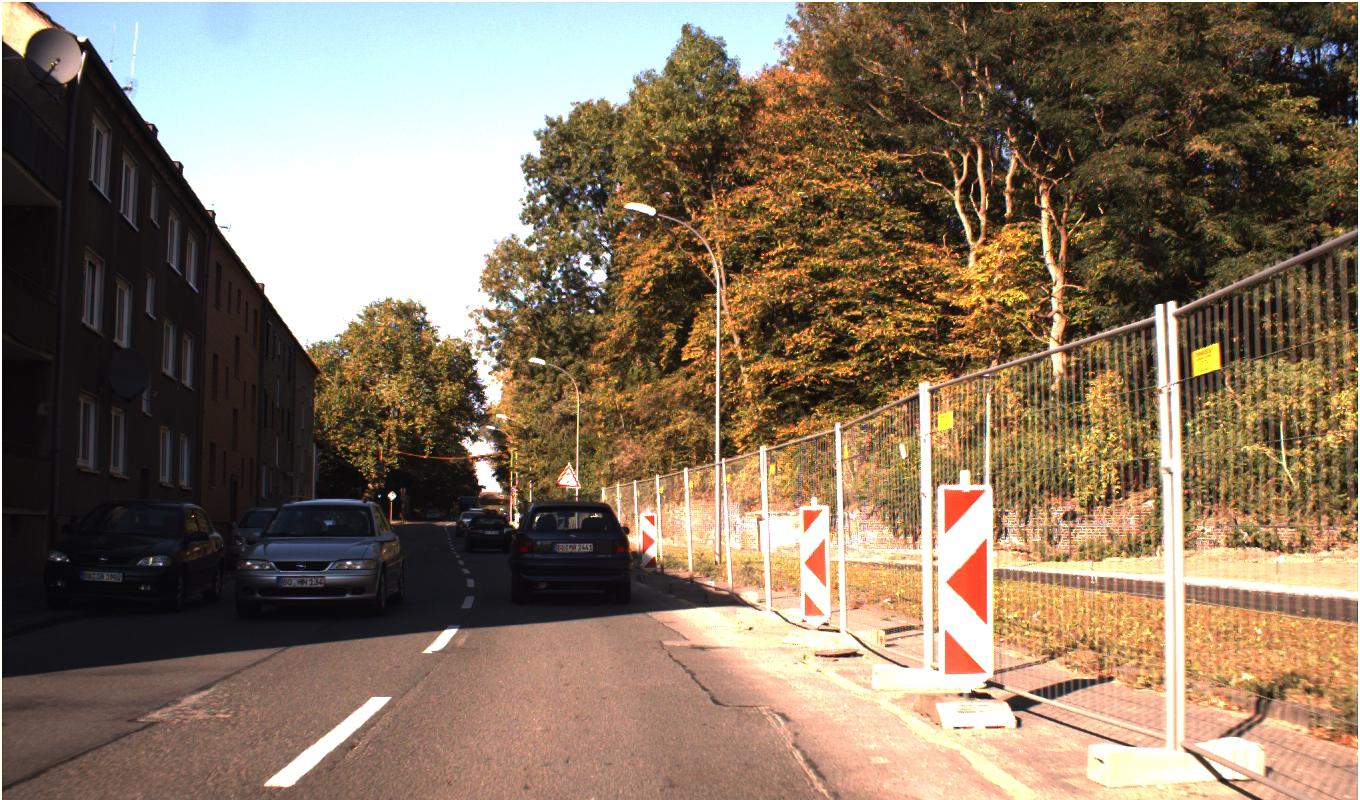danger: (553, 462, 579, 488)
